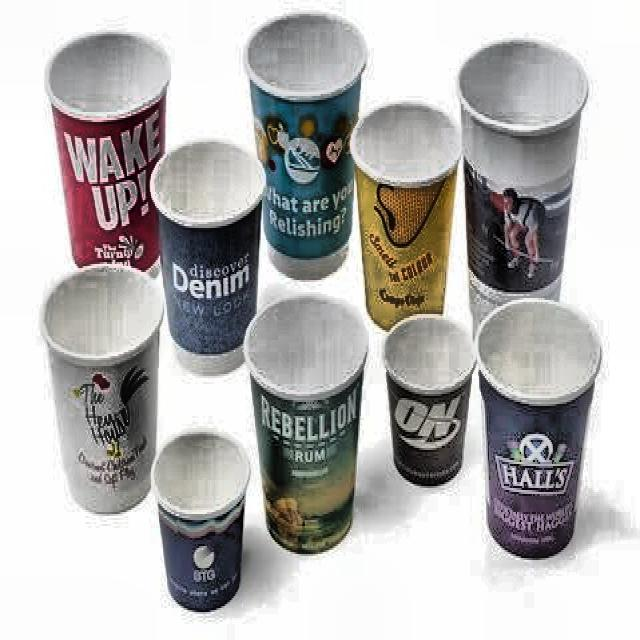Cup: (450, 28, 585, 380), (242, 290, 381, 560), (29, 261, 169, 529), (51, 22, 174, 302), (240, 11, 364, 288), (137, 123, 266, 379), (478, 294, 602, 548), (347, 79, 465, 342), (145, 428, 259, 633), (380, 306, 476, 488)
